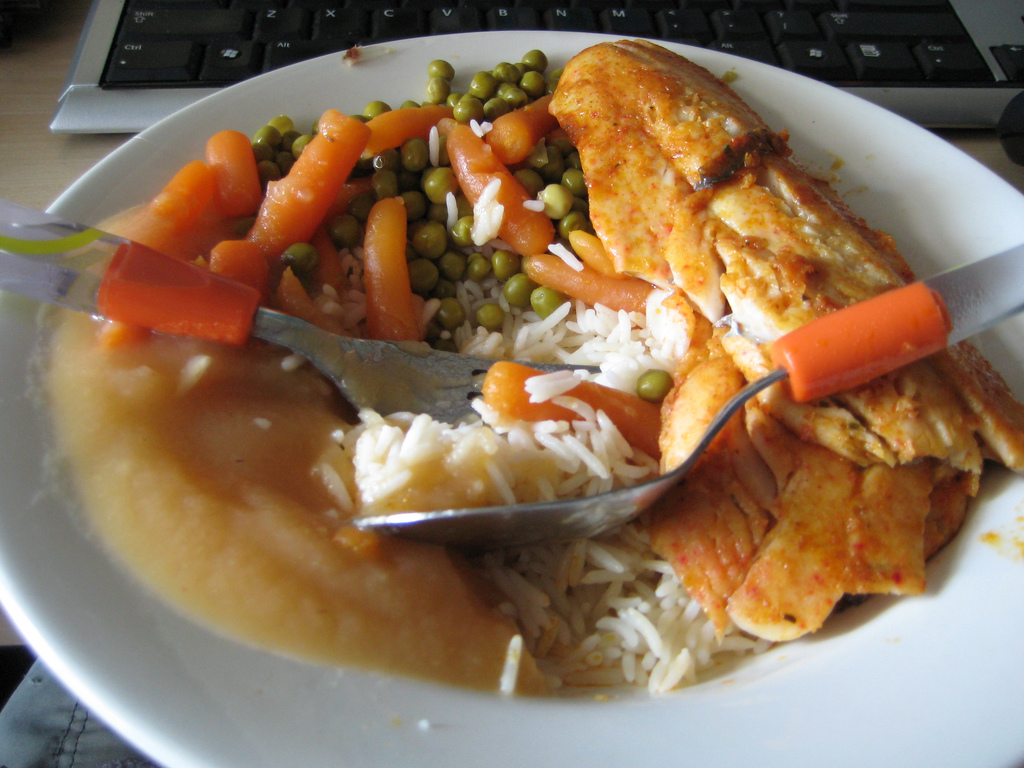boiled peas: (424, 220, 491, 317), (452, 68, 527, 109)
plain rice: (558, 584, 691, 666), (396, 435, 560, 491)
